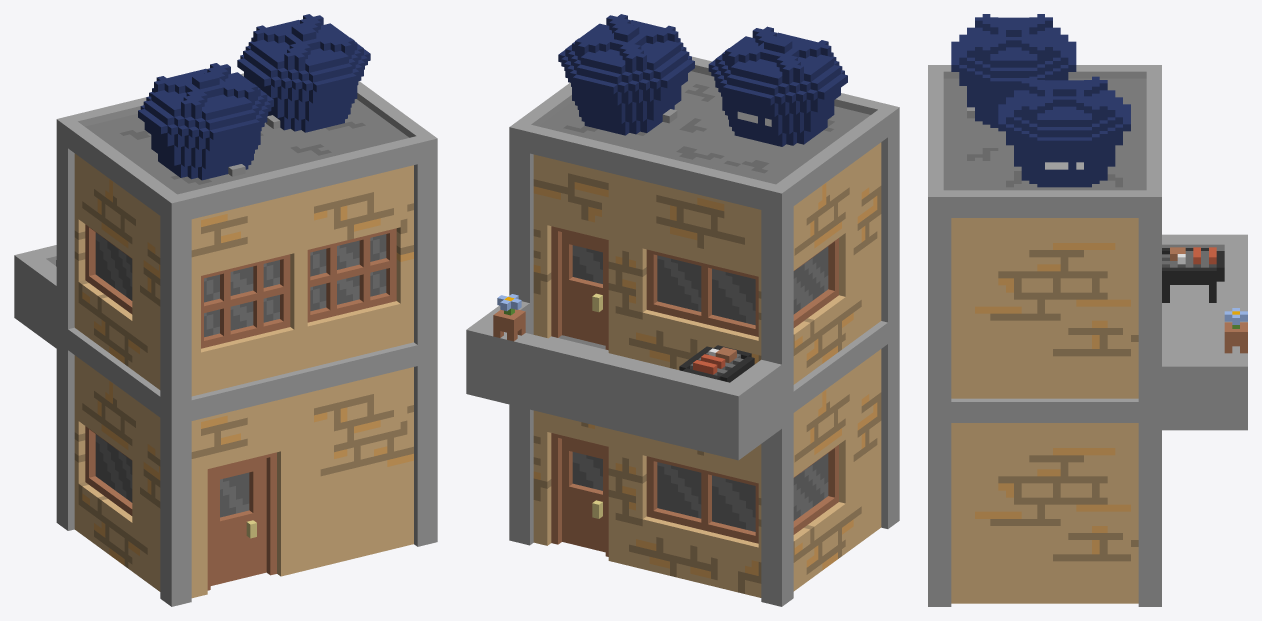
File: casacomchurras.obj
The picture shows the model from 3 angles, left to right: view 1: azimuth 30°, elevation 25°; view 2: azimuth 150°, elevation 25°; view 3: azimuth 270°, elevation 25°; orthographic projection. The views are drawn at different scales.
Size of the model in its own units: 4 by 6.9 by 4.1.
1 material, 1 textured.
